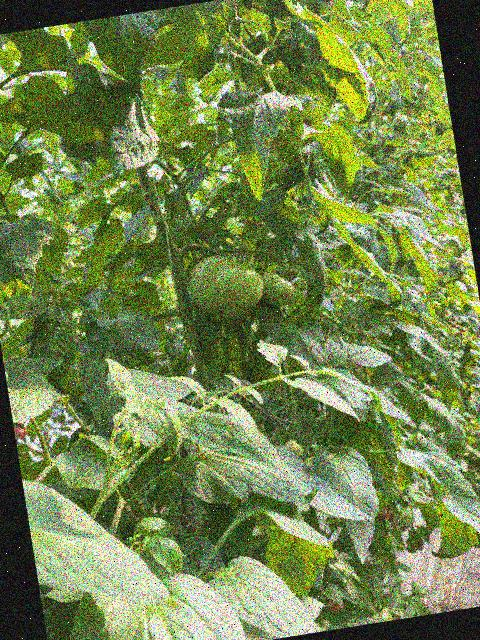b_green: (185, 249, 268, 323), (56, 128, 101, 165), (259, 268, 299, 309), (93, 137, 113, 161)
